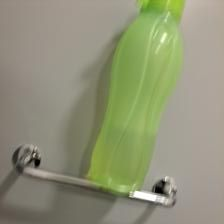bottle: (84, 0, 190, 194)
